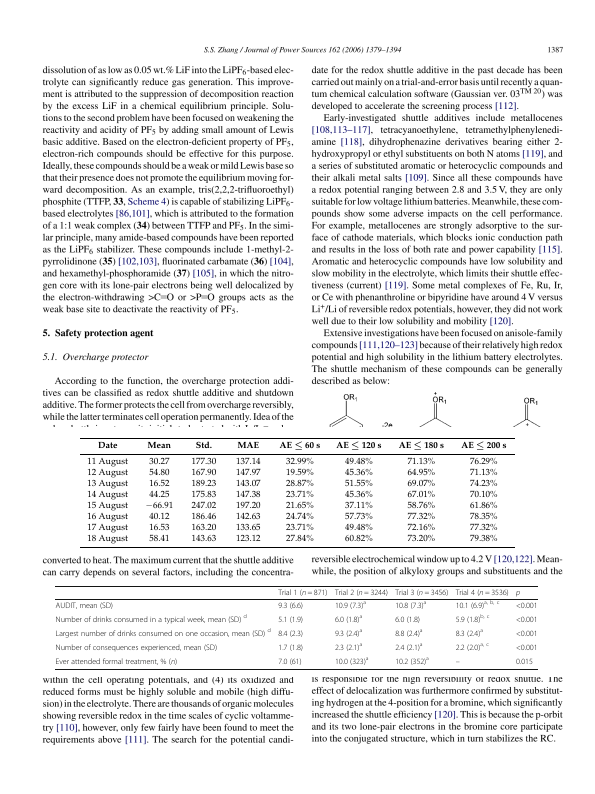borderless: (79, 436, 515, 547), (54, 584, 538, 669)
cell: (55, 627, 272, 639), (55, 613, 248, 625), (55, 643, 218, 653), (55, 657, 178, 667), (55, 601, 114, 611), (455, 599, 500, 611), (334, 588, 389, 597), (394, 588, 449, 597), (455, 588, 510, 597), (335, 441, 382, 451), (397, 441, 444, 451), (460, 441, 507, 451), (86, 457, 128, 468), (86, 468, 128, 479), (86, 479, 128, 490), (86, 490, 128, 501), (86, 501, 128, 512), (86, 512, 128, 523), (86, 523, 128, 534), (86, 534, 128, 545), (277, 588, 328, 597), (394, 655, 430, 667), (278, 441, 321, 451), (455, 613, 490, 625), (455, 641, 490, 653), (334, 655, 369, 667), (334, 599, 367, 611), (394, 599, 427, 611), (334, 613, 363, 625), (334, 627, 363, 639), (394, 627, 423, 639), (455, 627, 484, 639), (334, 641, 363, 653), (394, 641, 423, 653), (343, 457, 373, 468), (406, 457, 436, 468), (468, 457, 498, 468), (343, 468, 373, 479), (406, 468, 436, 479), (468, 468, 498, 479), (343, 479, 373, 490), (406, 479, 436, 490), (468, 479, 498, 490), (343, 490, 373, 501), (406, 490, 436, 501), (468, 490, 498, 501), (144, 501, 174, 512), (343, 501, 373, 512), (406, 501, 436, 512), (468, 501, 498, 512), (343, 512, 373, 523), (406, 512, 436, 523), (468, 512, 498, 523), (343, 523, 373, 534), (406, 523, 436, 534), (468, 523, 498, 534), (343, 534, 373, 545), (406, 534, 436, 545), (468, 534, 498, 545), (285, 457, 314, 468), (285, 468, 314, 479), (285, 479, 314, 490), (285, 490, 314, 501), (285, 501, 314, 512), (285, 512, 314, 523), (285, 523, 314, 534), (285, 534, 314, 545), (190, 457, 217, 468), (234, 457, 261, 468), (190, 468, 217, 479), (234, 468, 261, 479), (190, 479, 217, 490), (234, 479, 261, 490), (190, 490, 217, 501), (234, 490, 261, 501), (190, 501, 217, 512), (234, 501, 261, 512), (190, 512, 217, 523), (234, 512, 261, 523), (190, 523, 217, 534), (234, 523, 261, 534), (190, 534, 217, 545), (234, 534, 261, 545), (277, 601, 304, 611), (277, 615, 304, 625), (394, 615, 421, 625), (277, 629, 304, 639), (277, 643, 304, 653), (277, 657, 302, 667), (148, 457, 170, 468), (148, 468, 170, 479), (148, 479, 170, 490), (148, 490, 170, 501), (148, 512, 170, 523), (148, 523, 170, 534), (148, 534, 170, 545), (515, 601, 538, 611), (515, 615, 538, 625), (515, 629, 538, 639), (515, 643, 538, 653), (146, 441, 172, 449), (515, 657, 534, 667), (236, 441, 259, 449), (96, 441, 118, 449), (194, 441, 212, 449), (515, 590, 521, 597), (455, 661, 461, 665)
